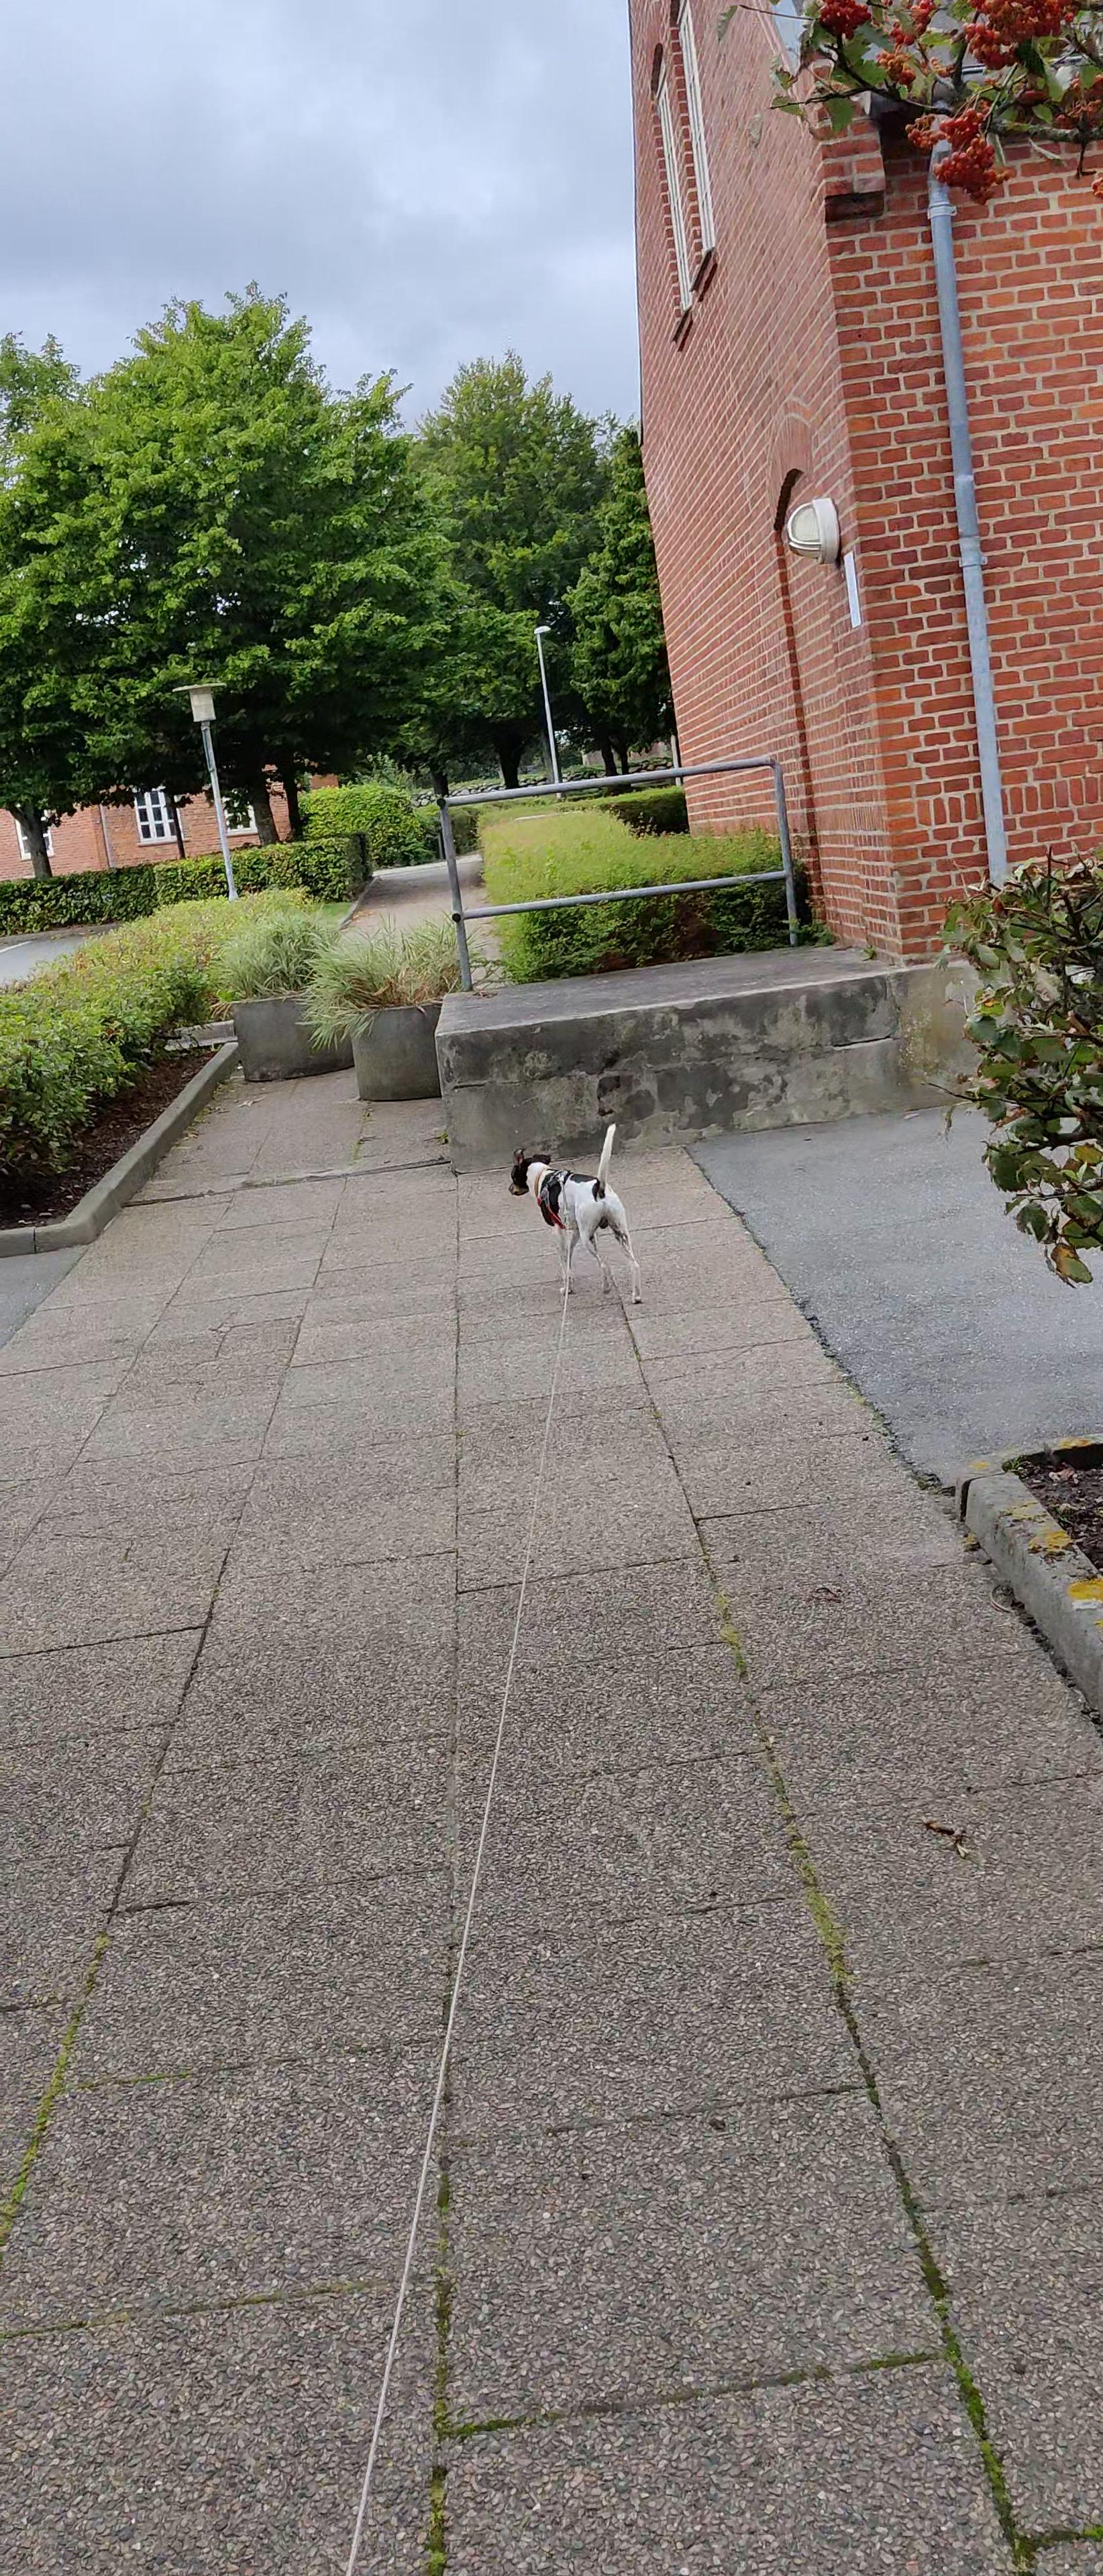Dog: (488, 1109, 651, 1316)
